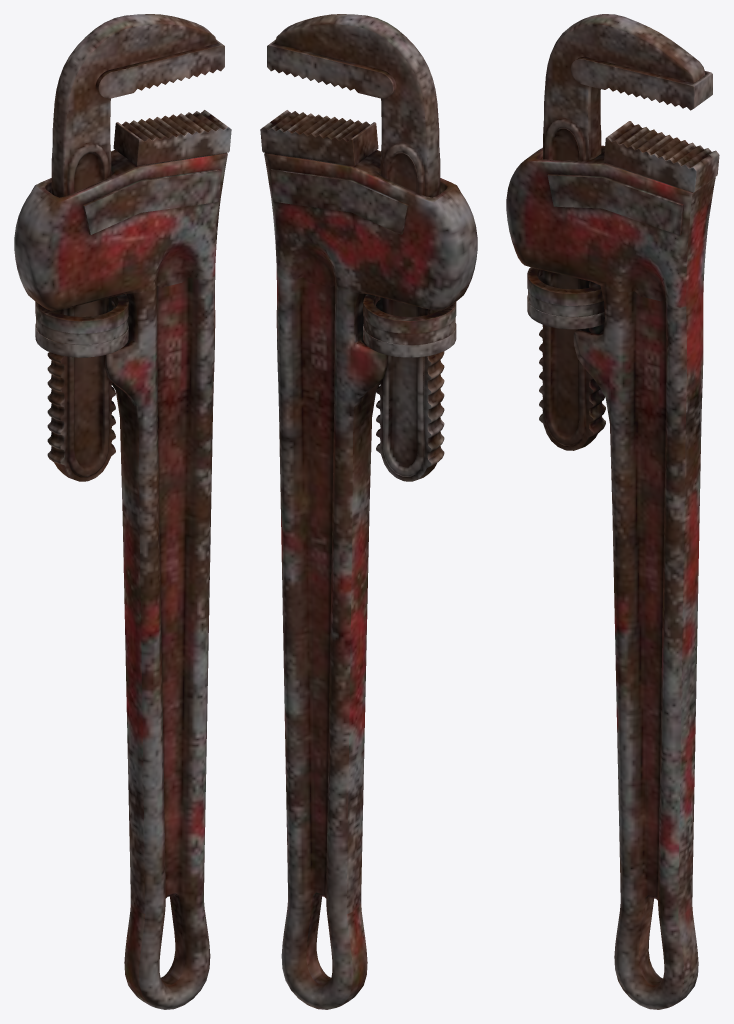
The model's file is wrench_open.glb.
3 renders of one model, left to right at view 1: azimuth 30°, elevation 25°; view 2: azimuth 150°, elevation 25°; view 3: azimuth 330°, elevation 25°, orthographic.
Visible parts, largest first — view 1: wrench_open; view 2: wrench_open; view 3: wrench_open.
Boxes of the visible parts, bbox=[...] form: wrench_open: bbox=[14, 14, 231, 1009]; wrench_open: bbox=[260, 14, 477, 1009]; wrench_open: bbox=[506, 14, 719, 1009].
Bounding box in the file's own units: 0.084 × 0.4047 × 0.0343.
Materials: 1 (1 with a texture image).
